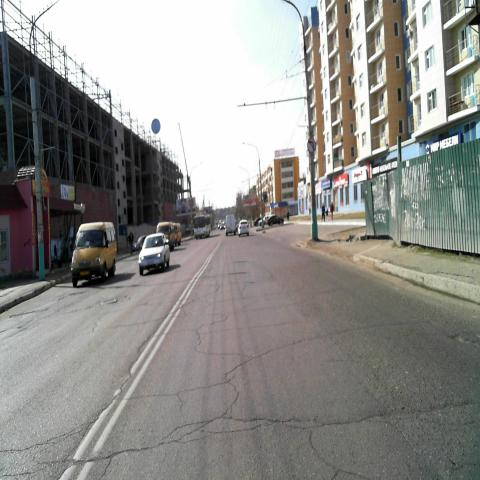3_18_2: (306, 137, 316, 155)
